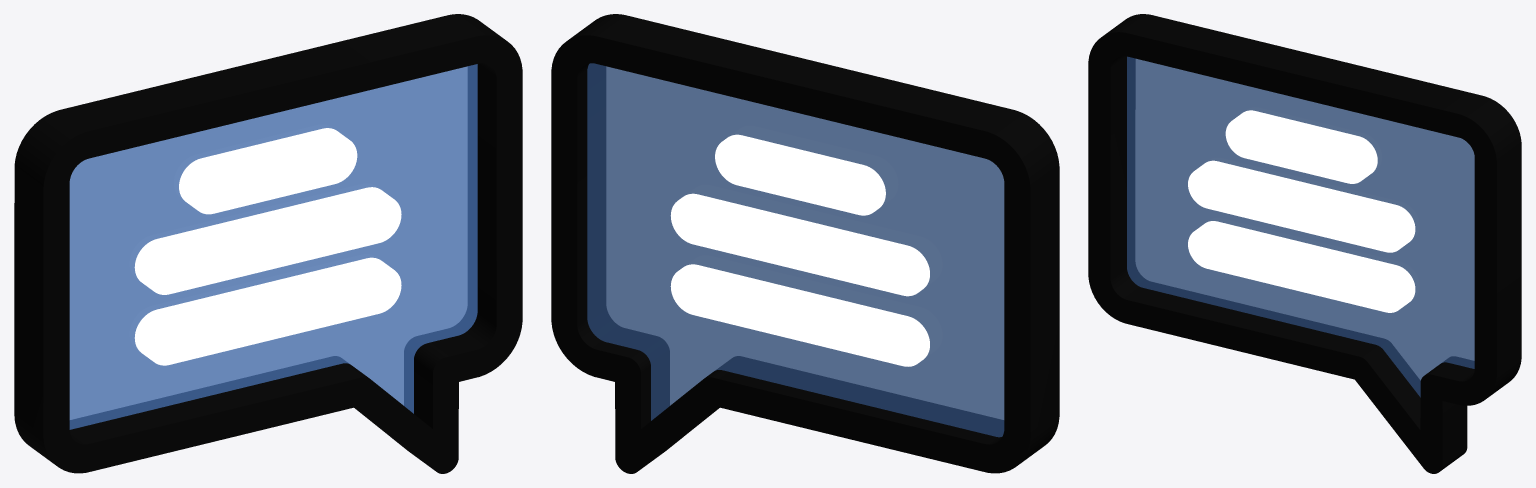
File: Icon3d.glb
3 renders of one model, left to right at view 1: azimuth 30°, elevation 25°; view 2: azimuth 150°, elevation 25°; view 3: azimuth 330°, elevation 25°, orthographic. The views are drawn at different scales.
Parts seen in each view (by area): view 1: CommentIcon3; view 2: CommentIcon3; view 3: CommentIcon3.
Part boxes in pixels (x1,y1,x2,y2): CommentIcon3: (14, 14, 522, 473); CommentIcon3: (551, 14, 1059, 473); CommentIcon3: (1088, 14, 1521, 473).
Size of the model in its own units: 0.6022 by 0.5159 by 0.0631.
